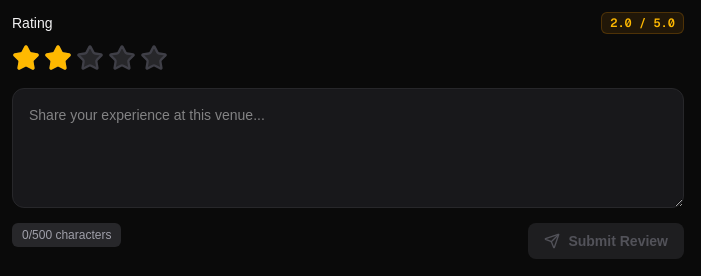
VenueReviewForm Star Rating › Hover Preview State with Gold Star Styling › resets preview to confirmed rating when cursor leaves star rating container
// Hover over 5 stars
Step 1. Hover over the button with test id "star-5-right" → (161, 58), box [154, 44, 168, 72]
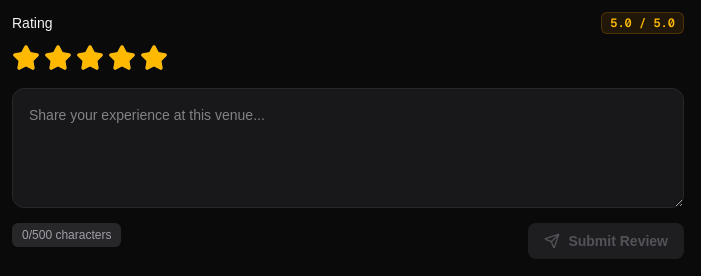
Expected: the text with test id "rating-preview-text" reads "5.0 / 5.0", [610, 15, 675, 31]
Expected: the icon with test id "star-5-full" is shown, [140, 44, 168, 72]
// Mouse leave rating container
Step 2. Move the pointer off the slider named "venue rating", box [12, 40, 168, 76]
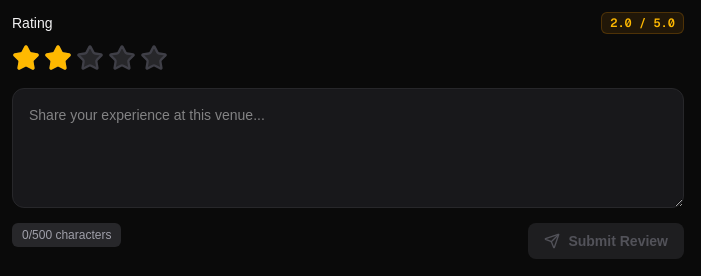
Expected: the icon with test id "star-2-full" is shown, [44, 44, 72, 72]
Expected: the text with test id "rating-preview-text" reads "2.0 / 5.0", [610, 15, 675, 31]
Expected: the icon with test id "star-3-full" is gone
